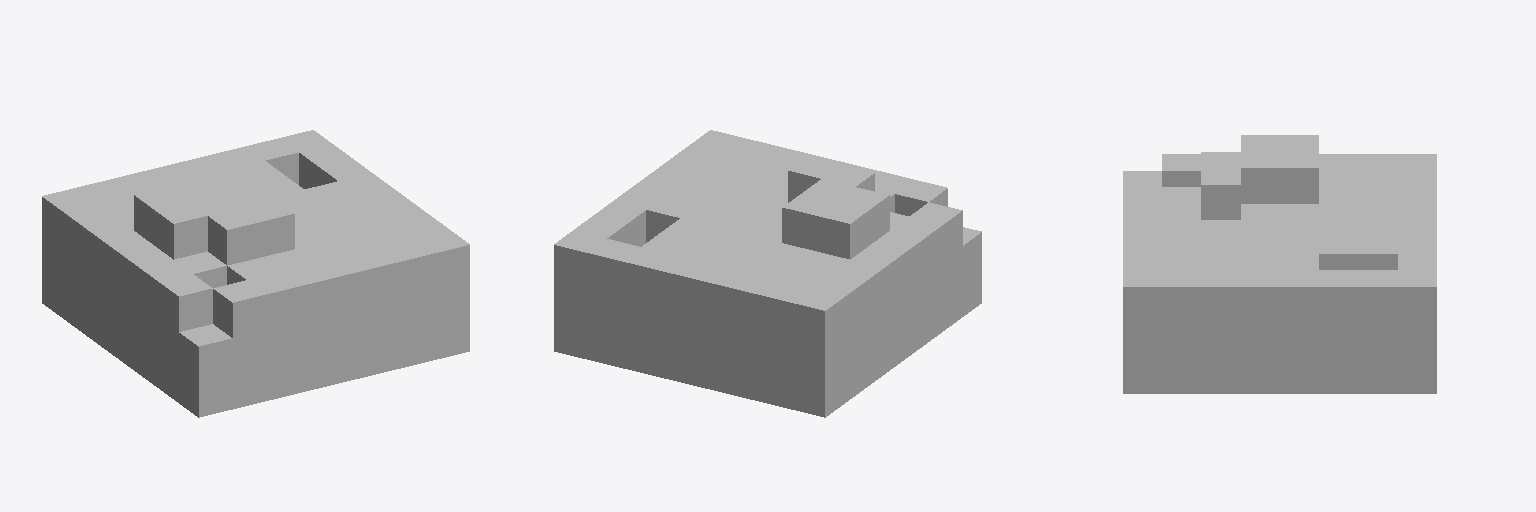
Rendered from Road turn Mid 1.obj.
3 renders of one model, left to right at view 1: azimuth 30°, elevation 25°; view 2: azimuth 150°, elevation 25°; view 3: azimuth 270°, elevation 25°, orthographic.
Parts seen in each view (by area): view 1: object 1; view 2: object 1; view 3: object 1.
Boxes of the visible parts, box(x1,y1,x2,y2) form: object 1: box(42, 130, 469, 417); object 1: box(554, 130, 981, 417); object 1: box(1123, 135, 1436, 393).
Size of the model in its own units: 0.8 by 0.4 by 0.8.